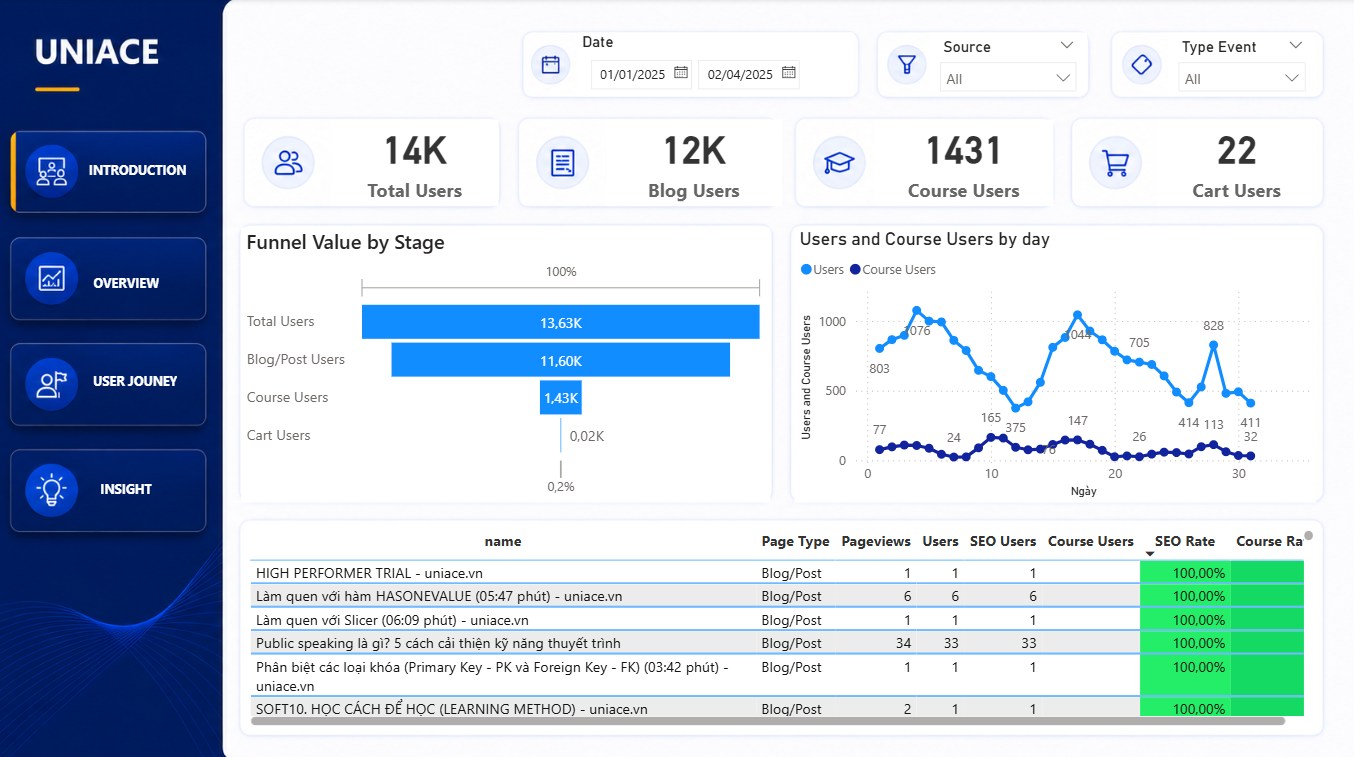

The dashboard page shown, as its layout file describes it:
{"tool":"powerbi","page":{"name":"User Jouney","canvas":[1280,720],"ordinal":2},"visuals":[{"type":"slicer","title":"Date","fields":{"Values":["public fact_events.event_date"]},"box":[546.4,31.8,260,60],"z":0},{"type":"slicer","fields":{"Values":["public dim_source.source"]},"box":[879.1,32.7,148.2,56.4],"z":1000},{"type":"slicer","fields":{"Values":["public fact_events.event_type"]},"box":[1102.7,32.7,139.1,59.1],"z":2000},{"type":"advanceCardE03760C5AB684758B56AA29F9E6C257B","fields":{"mainMeasure":["Table.Blog Users"]},"box":[574.3,114.3,165.7,81.4],"z":3000},{"type":"advanceCardE03760C5AB684758B56AA29F9E6C257B","fields":{"mainMeasure":["Table.Total Users"]},"box":[315.7,114.3,157.1,81.4],"z":4000},{"type":"advanceCardE03760C5AB684758B56AA29F9E6C257B","fields":{"mainMeasure":["Bảng.Course Users"]},"box":[825.7,114.3,168.6,81.4],"z":5000},{"type":"advanceCardE03760C5AB684758B56AA29F9E6C257B","fields":{"mainMeasure":["Bảng.Cart Users"]},"box":[1092.9,114.3,148.6,81.4],"z":6000},{"type":"funnel","fields":{"Category":["Funnel Stage.Stage"],"Y":["Bảng.Funnel Value"]},"box":[231.4,215.7,497.1,258.6],"z":7000},{"type":"lineChart","title":"Users and Course Users by day","fields":{"Category":["public fact_events.event_date.Biến động.Phân cấp ngày tháng.Ngày"],"Y":["Bảng.Users","Bảng.Course Users"]},"box":[751.4,215.7,490,258.6],"z":8000},{"type":"tableEx","fields":{"Values":["public dim_page.name","public dim_page.url_type","Bảng.Pageviews","Bảng.Users","Bảng.SEO Users","Bảng.Course Users","Bảng.SEO Rate","Bảng.Course Rate"]},"box":[234.3,494.3,1010,194.3],"z":9000},{"type":"actionButton","box":[73.3,228.3,100,78.3],"z":10000},{"type":"actionButton","box":[81.7,321.7,100,76.7],"z":11000},{"type":"actionButton","box":[83.3,124.4,101.7,75],"z":12000},{"type":"actionButton","box":[73.3,441.7,100,40],"z":13000}]}

Visuals, with their boxes in screenshot pixels (x1, y1, x2, y2), scaled from the page's 1280x720 canvas onto the 1354x757 screenshot:
"Date" slicer: Rect(578, 33, 853, 97)
slicer - public dim_source.source: Rect(930, 34, 1087, 94)
slicer - public fact_events.event_type: Rect(1166, 34, 1314, 97)
advanceCardE03760C5AB684758B56AA29F9E6C257B - Table.Blog Users: Rect(608, 120, 783, 206)
advanceCardE03760C5AB684758B56AA29F9E6C257B - Table.Total Users: Rect(334, 120, 500, 206)
advanceCardE03760C5AB684758B56AA29F9E6C257B - Bảng.Course Users: Rect(873, 120, 1052, 206)
advanceCardE03760C5AB684758B56AA29F9E6C257B - Bảng.Cart Users: Rect(1156, 120, 1313, 206)
funnel - Funnel Stage.Stage x Bảng.Funnel Value: Rect(245, 227, 771, 499)
"Users and Course Users by day" lineChart: Rect(795, 227, 1313, 499)
tableEx - public dim_page.name x public dim_page.url_type: Rect(248, 520, 1316, 724)
actionButton: Rect(78, 240, 183, 322)
actionButton: Rect(86, 338, 192, 419)
actionButton: Rect(88, 131, 196, 210)
actionButton: Rect(78, 464, 183, 506)
